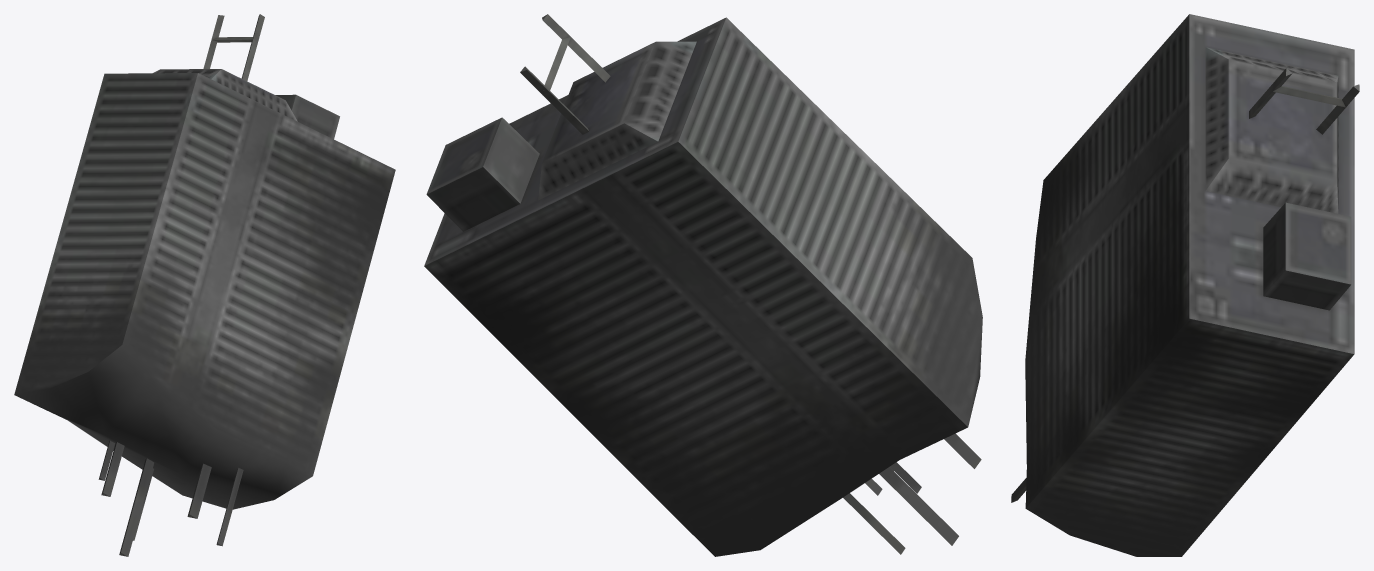
File: skyBuildingAAC_pos_grp (29).fbx
The picture shows the model from 3 angles, left to right: view 1: azimuth 30°, elevation 25°; view 2: azimuth 150°, elevation 25°; view 3: azimuth 270°, elevation 25°; orthographic projection. The views are drawn at different scales.
Visible parts, largest first — view 1: skyBuildingAAC_geo; view 2: skyBuildingAAC_geo; view 3: skyBuildingAAC_geo.
Boxes of the visible parts, bbox=[...] form: skyBuildingAAC_geo: bbox=[14, 14, 395, 556]; skyBuildingAAC_geo: bbox=[424, 14, 982, 556]; skyBuildingAAC_geo: bbox=[1011, 14, 1359, 556].
Size of the model in its own units: 9.16 by 9.83 by 5.71.
